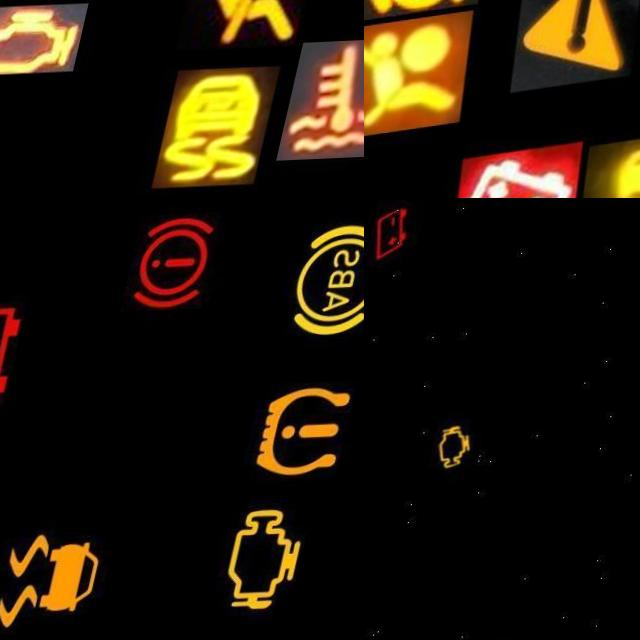Central Warning lamp: (514, 0, 640, 95)
Engine cooling system: (303, 43, 364, 165)
